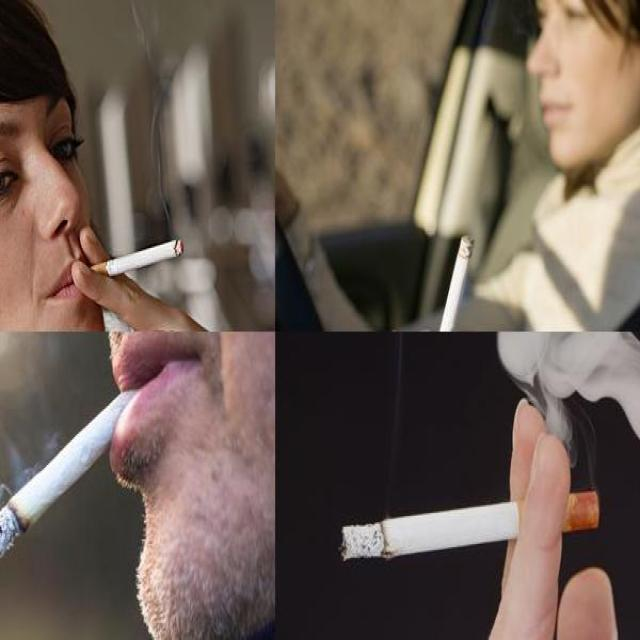smoking: (0, 347, 178, 564), (338, 488, 602, 564), (421, 232, 479, 330), (81, 229, 184, 279)
